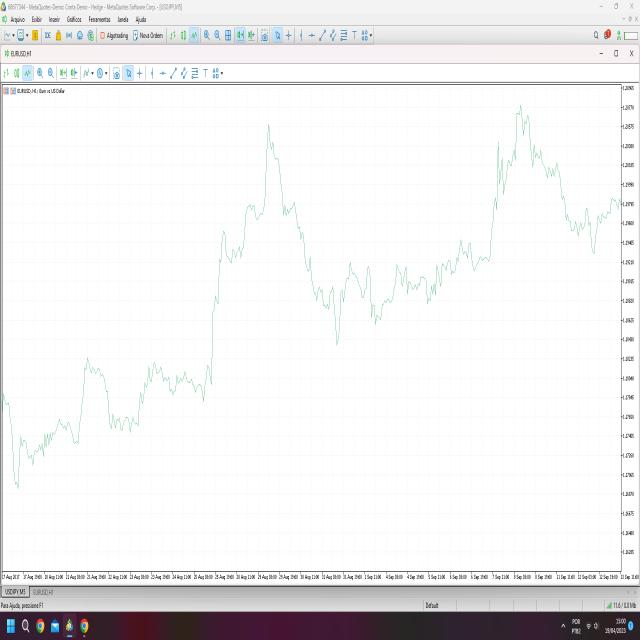bandeira_alta: (235, 124, 312, 265), (202, 203, 248, 400)
